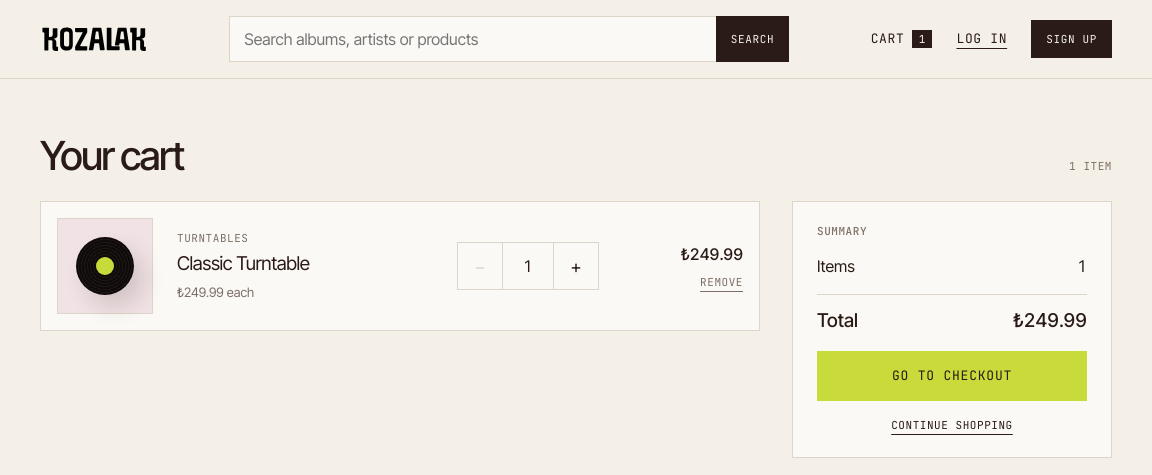
Test case: CartPage (SHOP-113) › changes a quantity and saves it (SHOP-112)
Expected: the link "Classic Turntable" is shown, 177,252 -> 310,275
Click the button named "Increase quantity of classic turntable": (576, 266) 554,243 -> 598,289
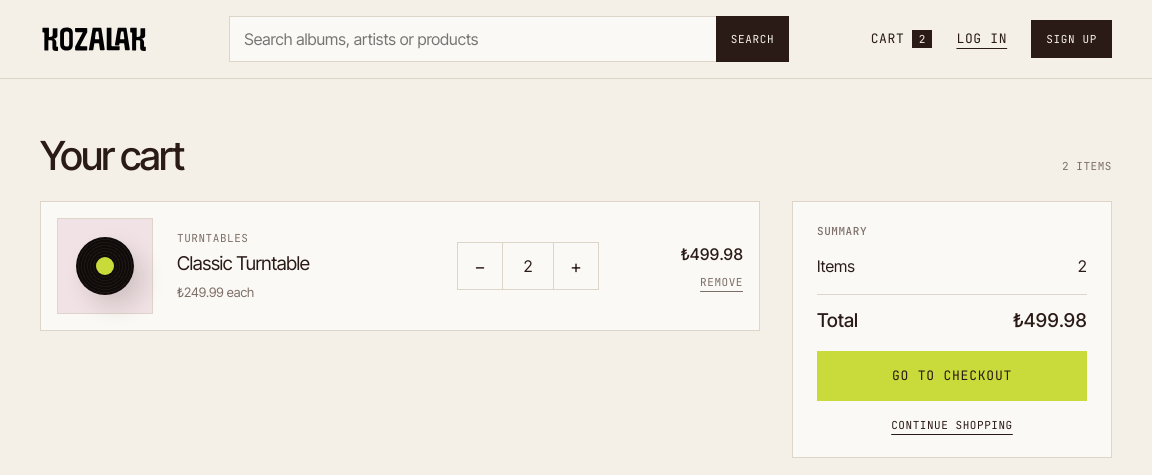
Now the text "₺499.98" in the row of "Turntables" is shown, box 681,244 -> 743,264
